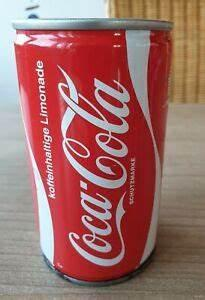metal: (14, 18, 173, 284)
